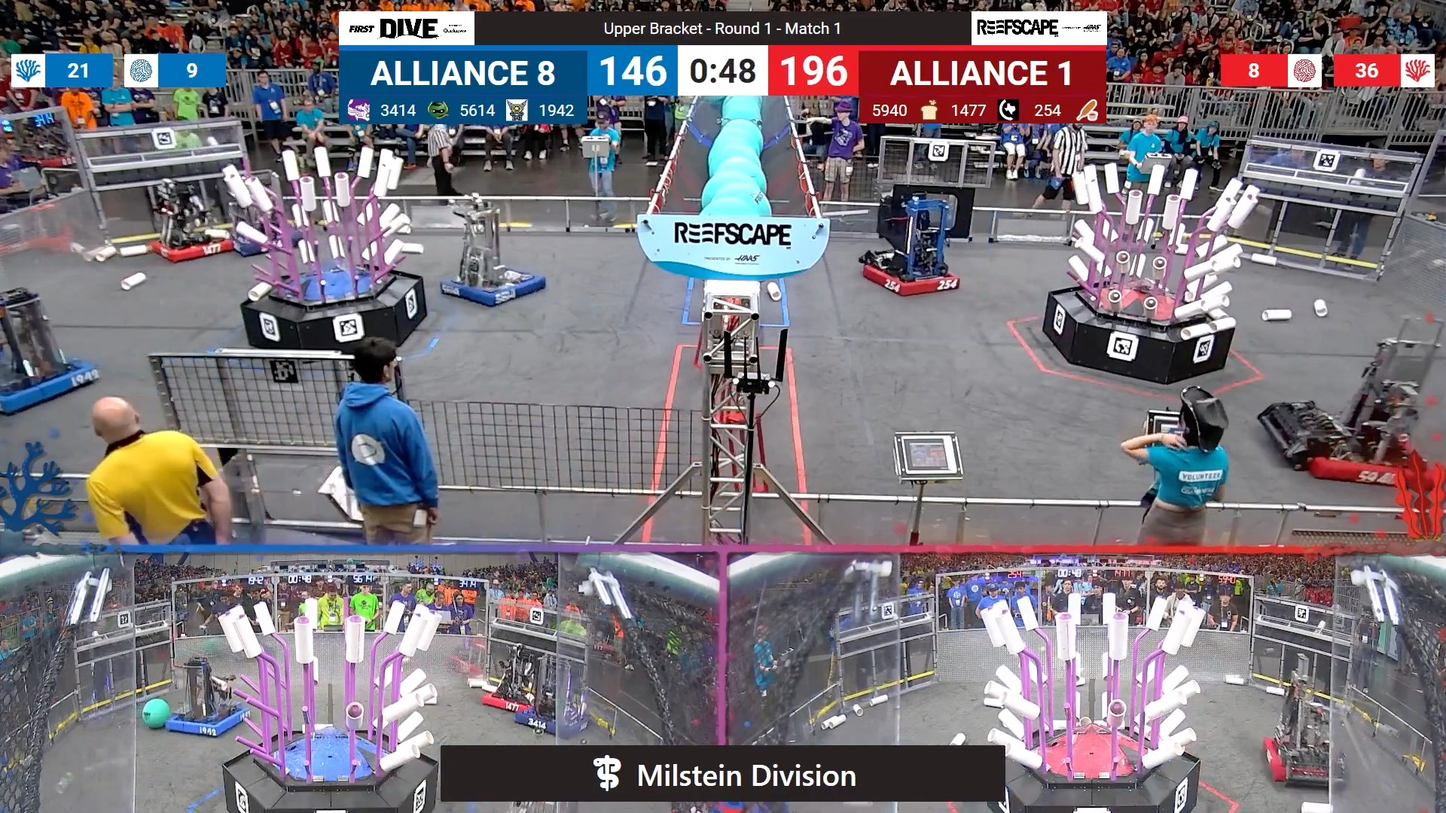bumpers: (1259, 408, 1431, 490), (0, 351, 105, 417), (851, 252, 967, 301), (434, 266, 555, 312), (1255, 733, 1344, 794), (156, 696, 255, 744), (143, 226, 242, 267), (510, 706, 598, 744), (475, 682, 552, 715)
